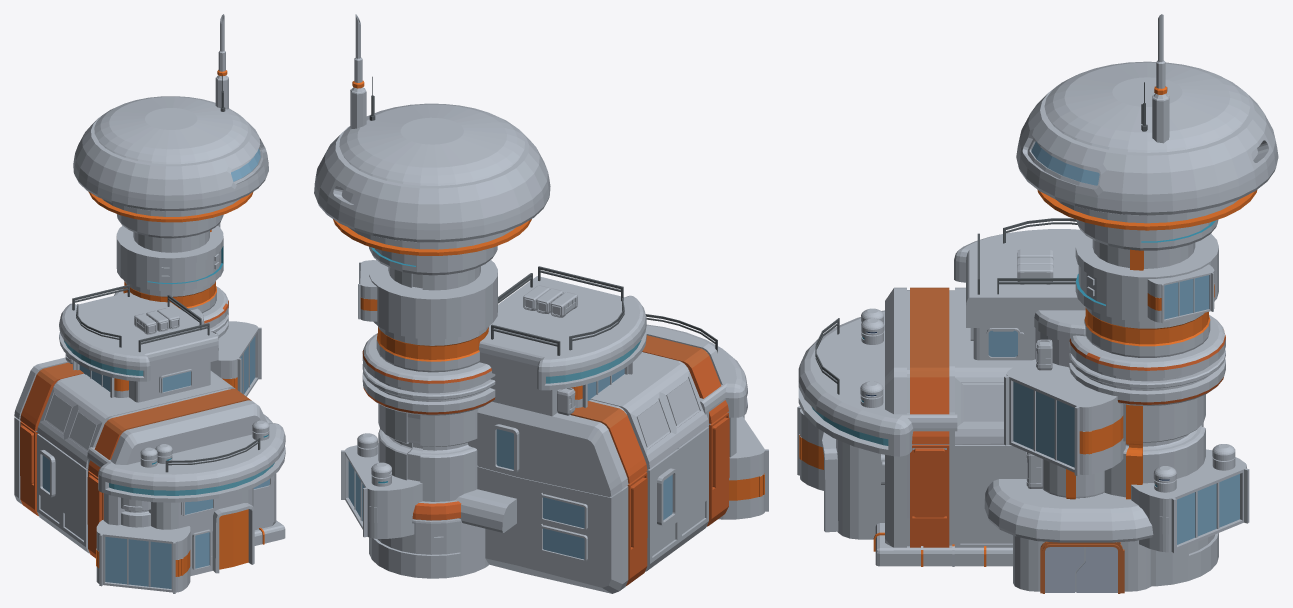
File: Building_06.fbx
The picture shows the model from 3 angles, left to right: view 1: azimuth 30°, elevation 25°; view 2: azimuth 150°, elevation 25°; view 3: azimuth 270°, elevation 25°; orthographic projection. The views are drawn at different scales.
Visible parts, largest first — view 1: Building_06; view 2: Building_06; view 3: Building_06.
Part boxes in pixels (bbox=[...]): Building_06: bbox=[14, 14, 285, 593]; Building_06: bbox=[314, 14, 768, 593]; Building_06: bbox=[797, 14, 1278, 593].
Bounding box in the file's own units: 1684 × 2693 × 2018.
2 materials, 2 textured.
